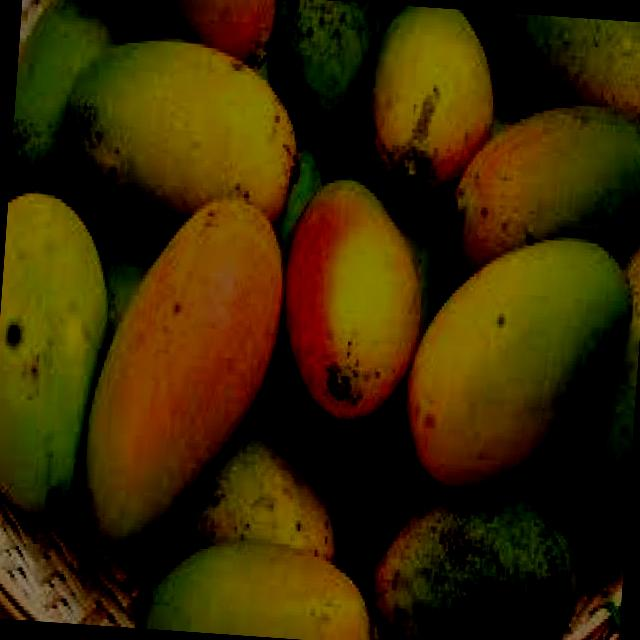Mango: (78, 193, 288, 559), (399, 222, 636, 494), (58, 29, 310, 232), (440, 92, 640, 288), (278, 174, 427, 422), (0, 189, 109, 524), (366, 480, 587, 640), (553, 227, 640, 565), (361, 3, 502, 202), (132, 538, 376, 640), (84, 0, 279, 63)
